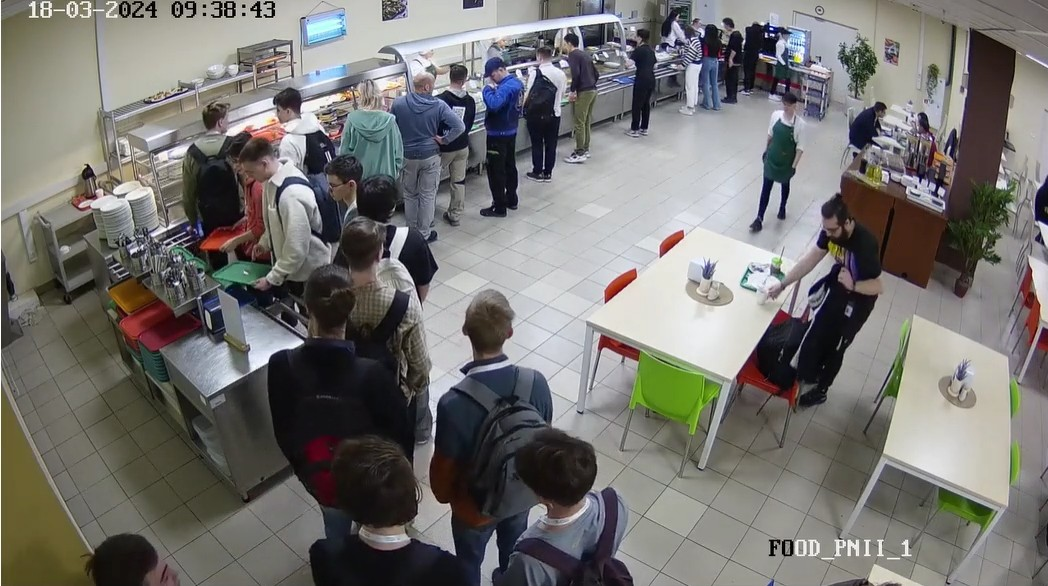Na_Kasse: (697, 23, 725, 105), (676, 26, 698, 114), (722, 14, 741, 99), (745, 19, 763, 97)
Ne_v_Ocheredi: (265, 260, 413, 463), (445, 283, 554, 511), (305, 441, 466, 586), (503, 429, 629, 586), (783, 199, 893, 349), (70, 510, 212, 586), (334, 213, 419, 337), (350, 181, 432, 279), (314, 157, 386, 242)
Personal: (752, 97, 803, 233), (773, 26, 796, 88), (409, 42, 442, 72), (554, 11, 586, 37), (483, 30, 512, 57), (658, 6, 680, 38), (690, 14, 703, 30)
Vybiraet: (222, 137, 333, 284), (176, 88, 239, 230), (397, 72, 450, 235), (479, 56, 527, 211), (340, 75, 401, 186), (263, 74, 333, 168), (440, 67, 475, 220), (208, 127, 262, 224), (558, 29, 599, 153), (524, 45, 561, 179), (626, 30, 658, 133)
Za_Stolom: (844, 101, 888, 161), (905, 108, 938, 149), (1034, 169, 1048, 230)
